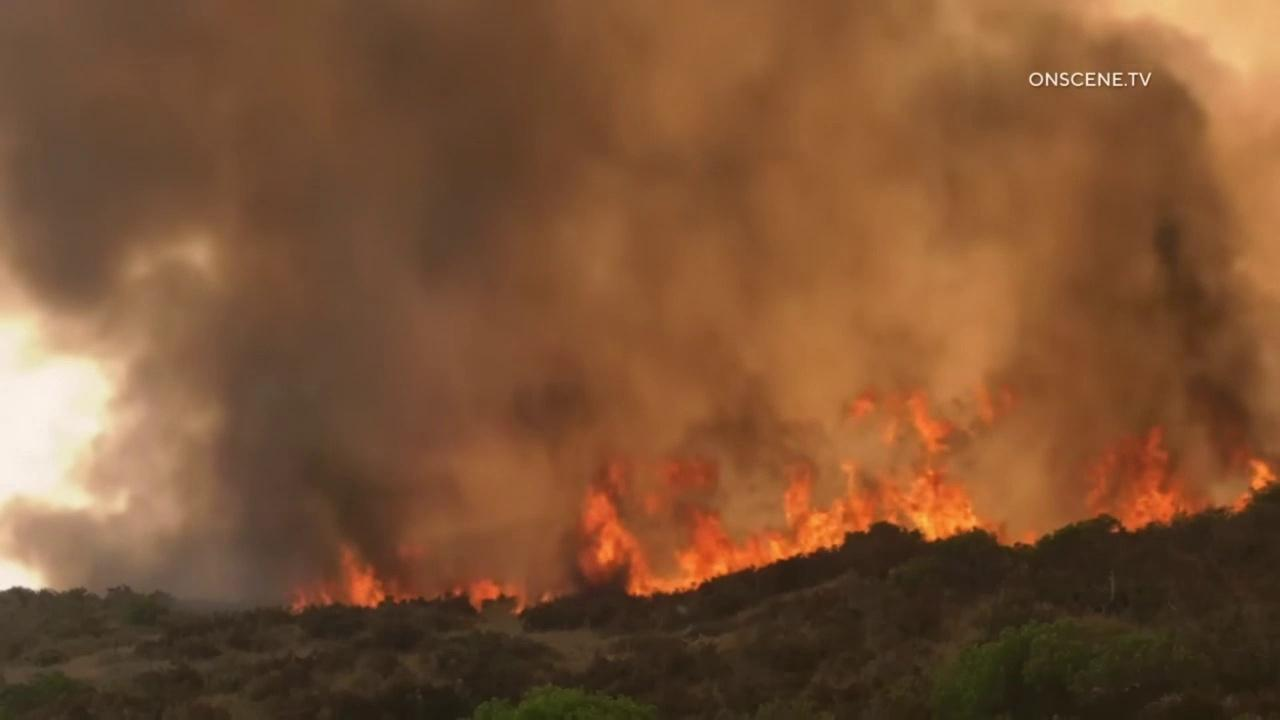fire: (573, 388, 1038, 603), (1080, 423, 1214, 541), (290, 538, 420, 620), (449, 571, 526, 617), (1228, 459, 1280, 517)
smoke: (0, 0, 1280, 616)
